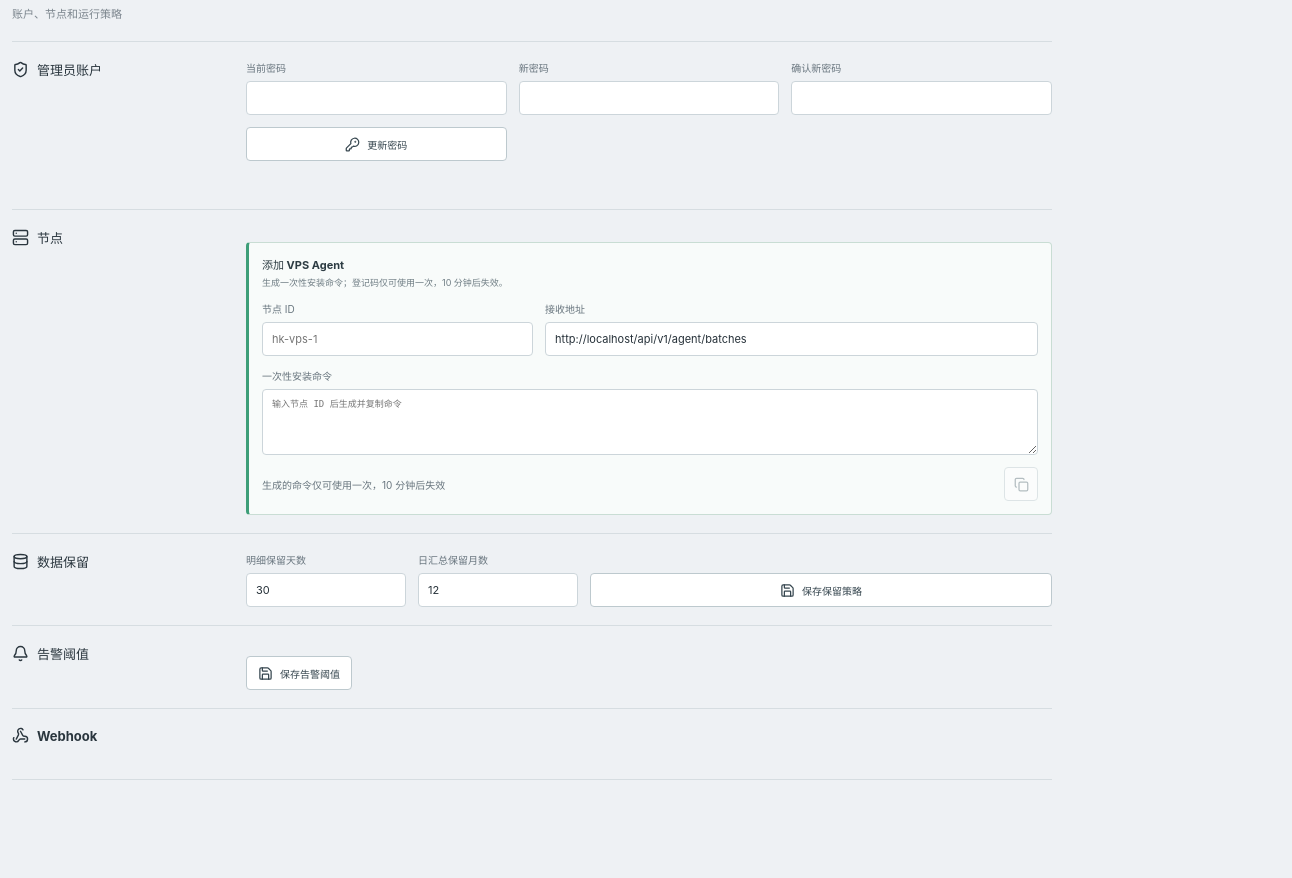
Scenario: validates password confirmation and retention bounds before saving
Expected: the number field labelled "明细保留天数" is shown, [246,573,406,607]
Type "a secure new password" into the password field labelled "新密码".
click(649, 98); type("a secure new password")  # box [519,81,779,115]
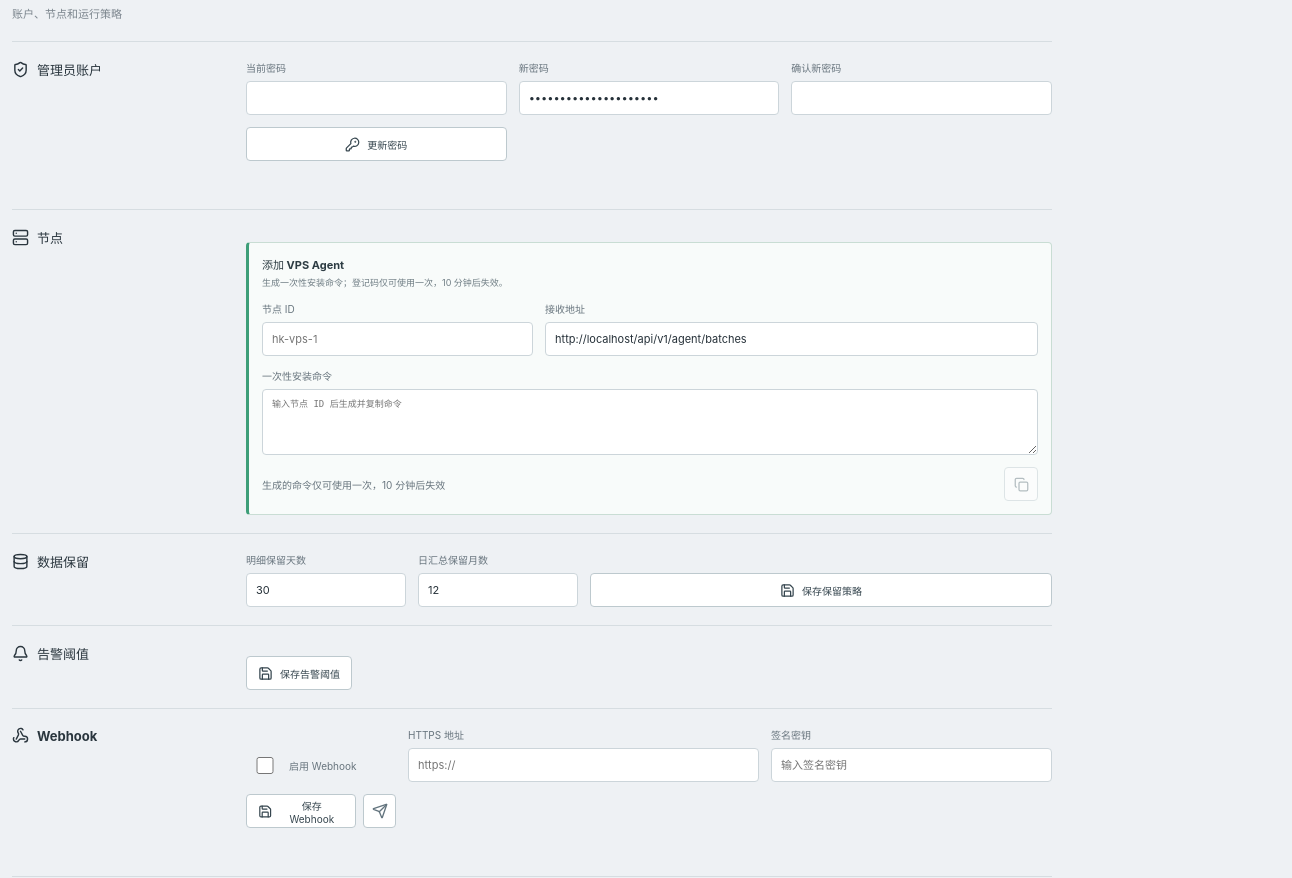
Type "does not match" into the password field labelled "确认新密码".
click(922, 98); type("does not match")  # box [791,81,1052,115]
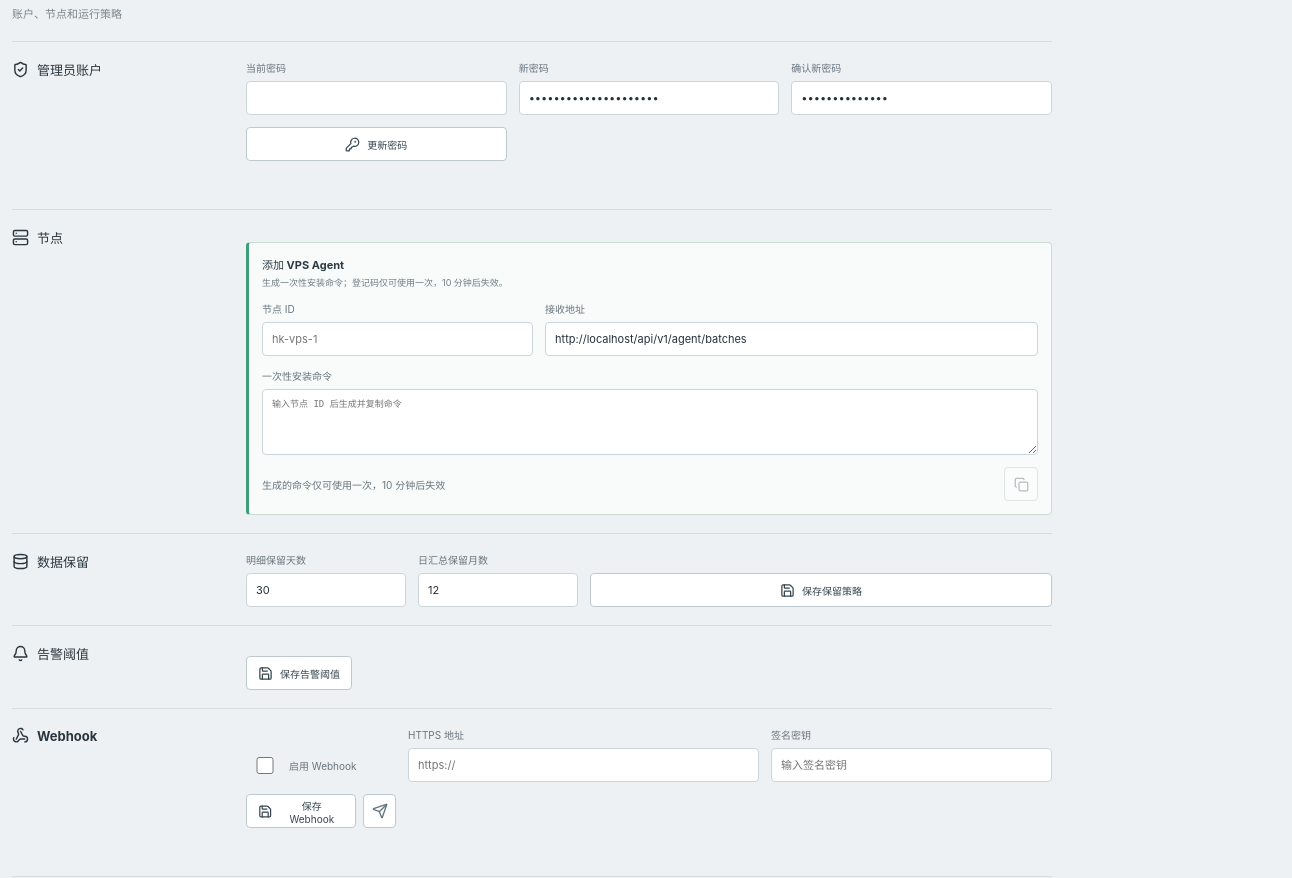
Click the button "更新密码".
click(376, 144)  # box [246,127,507,161]
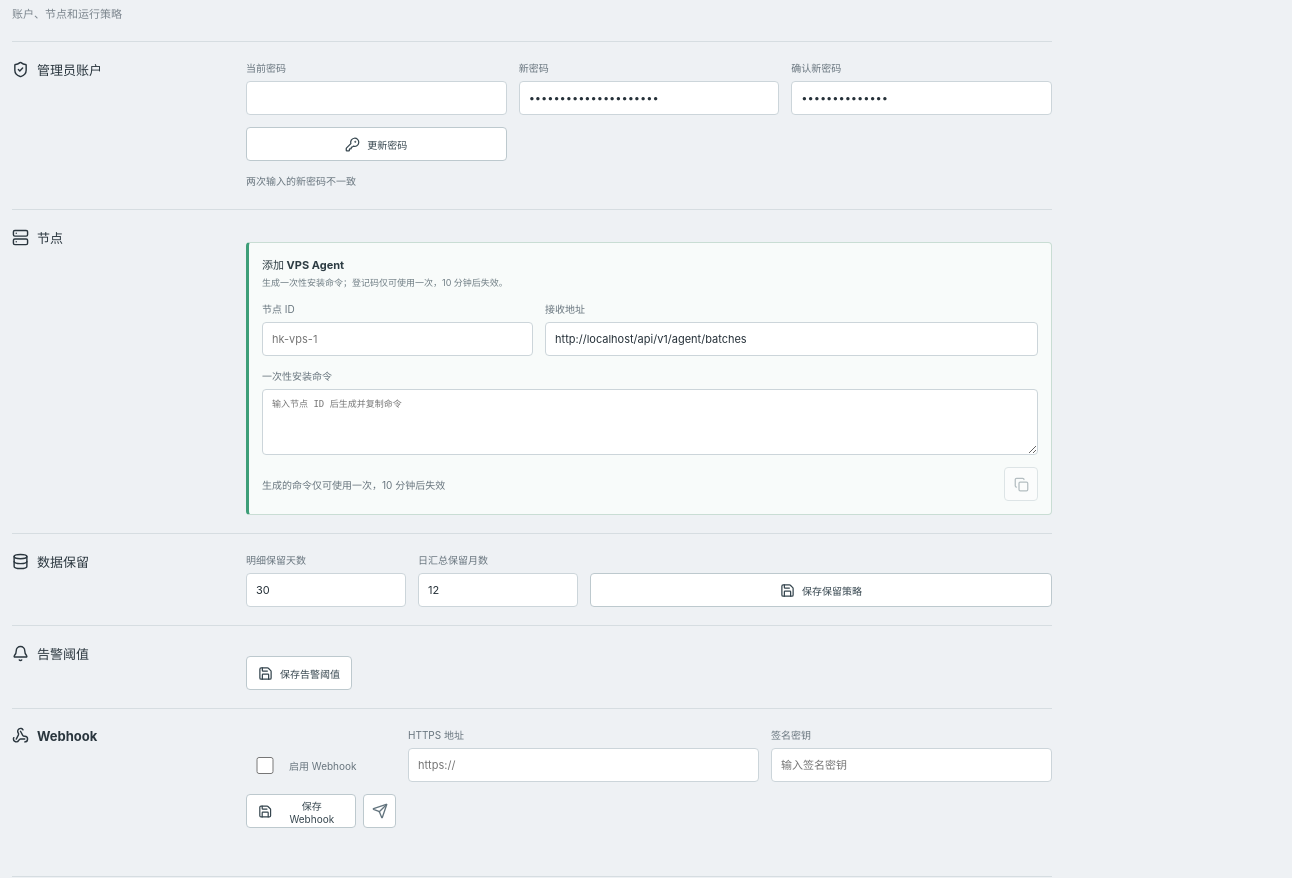
Result: the text "两次输入的新密码不一致" is shown at [246,175,356,187]
Replace the text in the number field labelled "明细保留天数" with "31" at (326, 590), box [246,573,406,607]
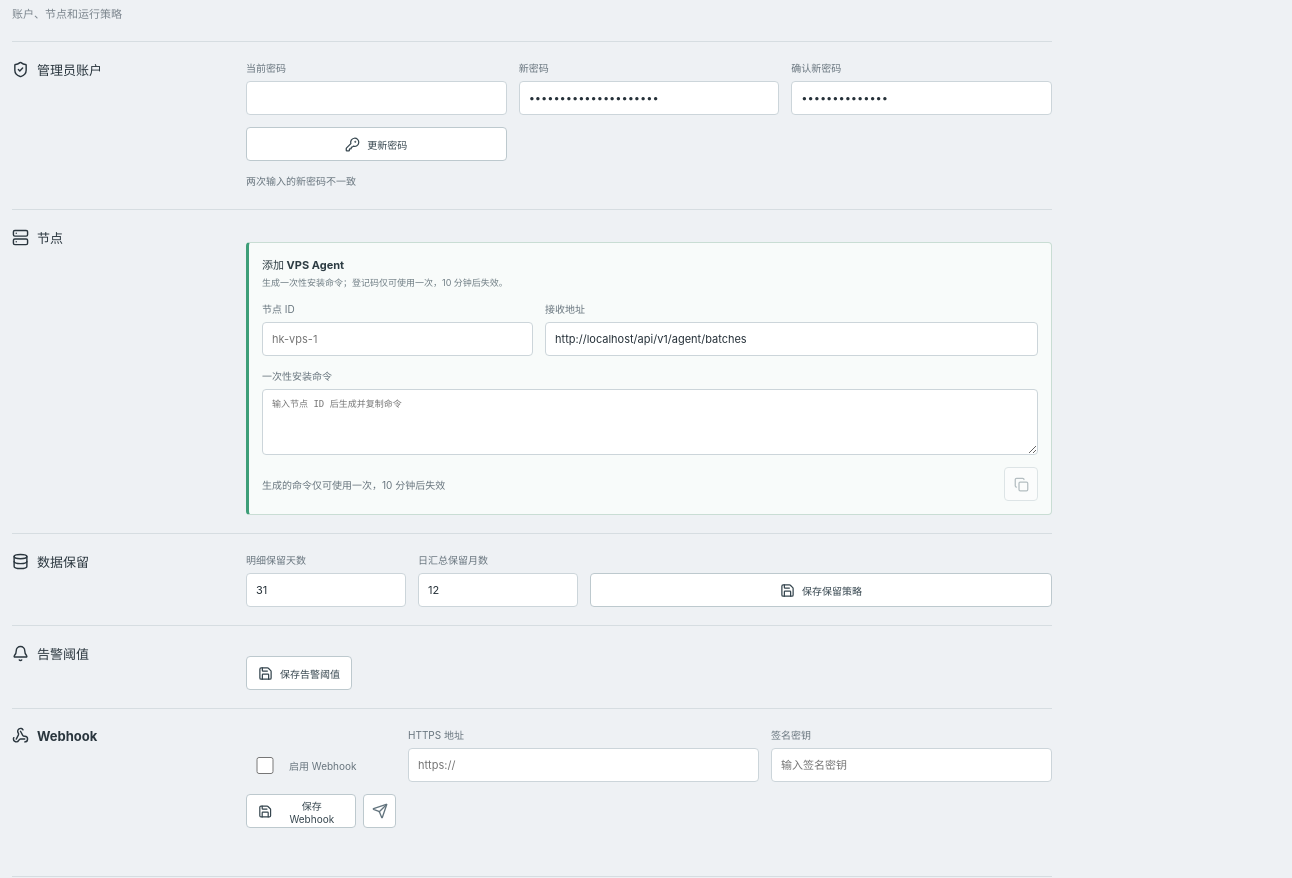
Click the button "保存保留策略".
click(821, 590)  # box [590,573,1052,607]
(page scrolled)
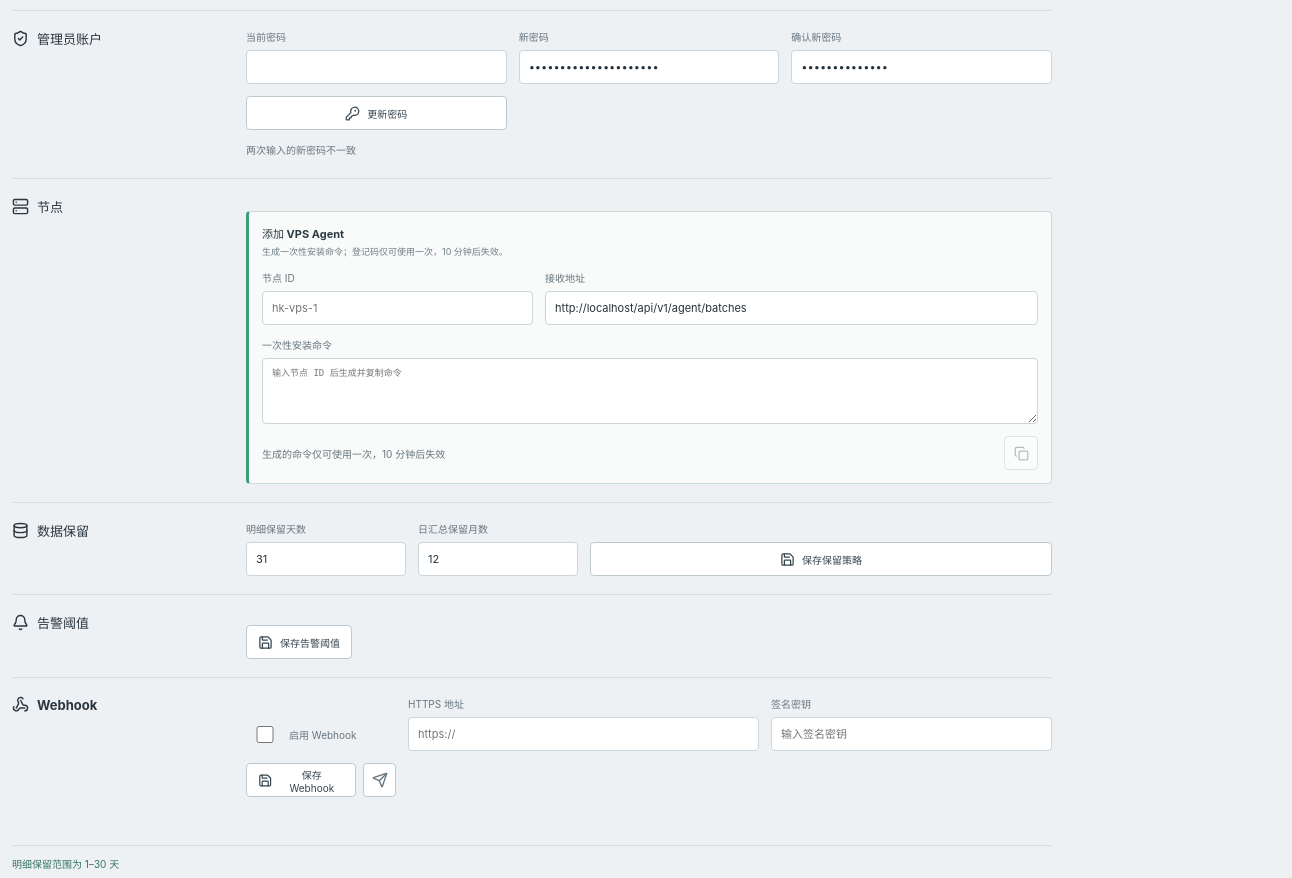
Result: the text "明细保留范围为 1–30 天" is shown at [12,858,119,870]
